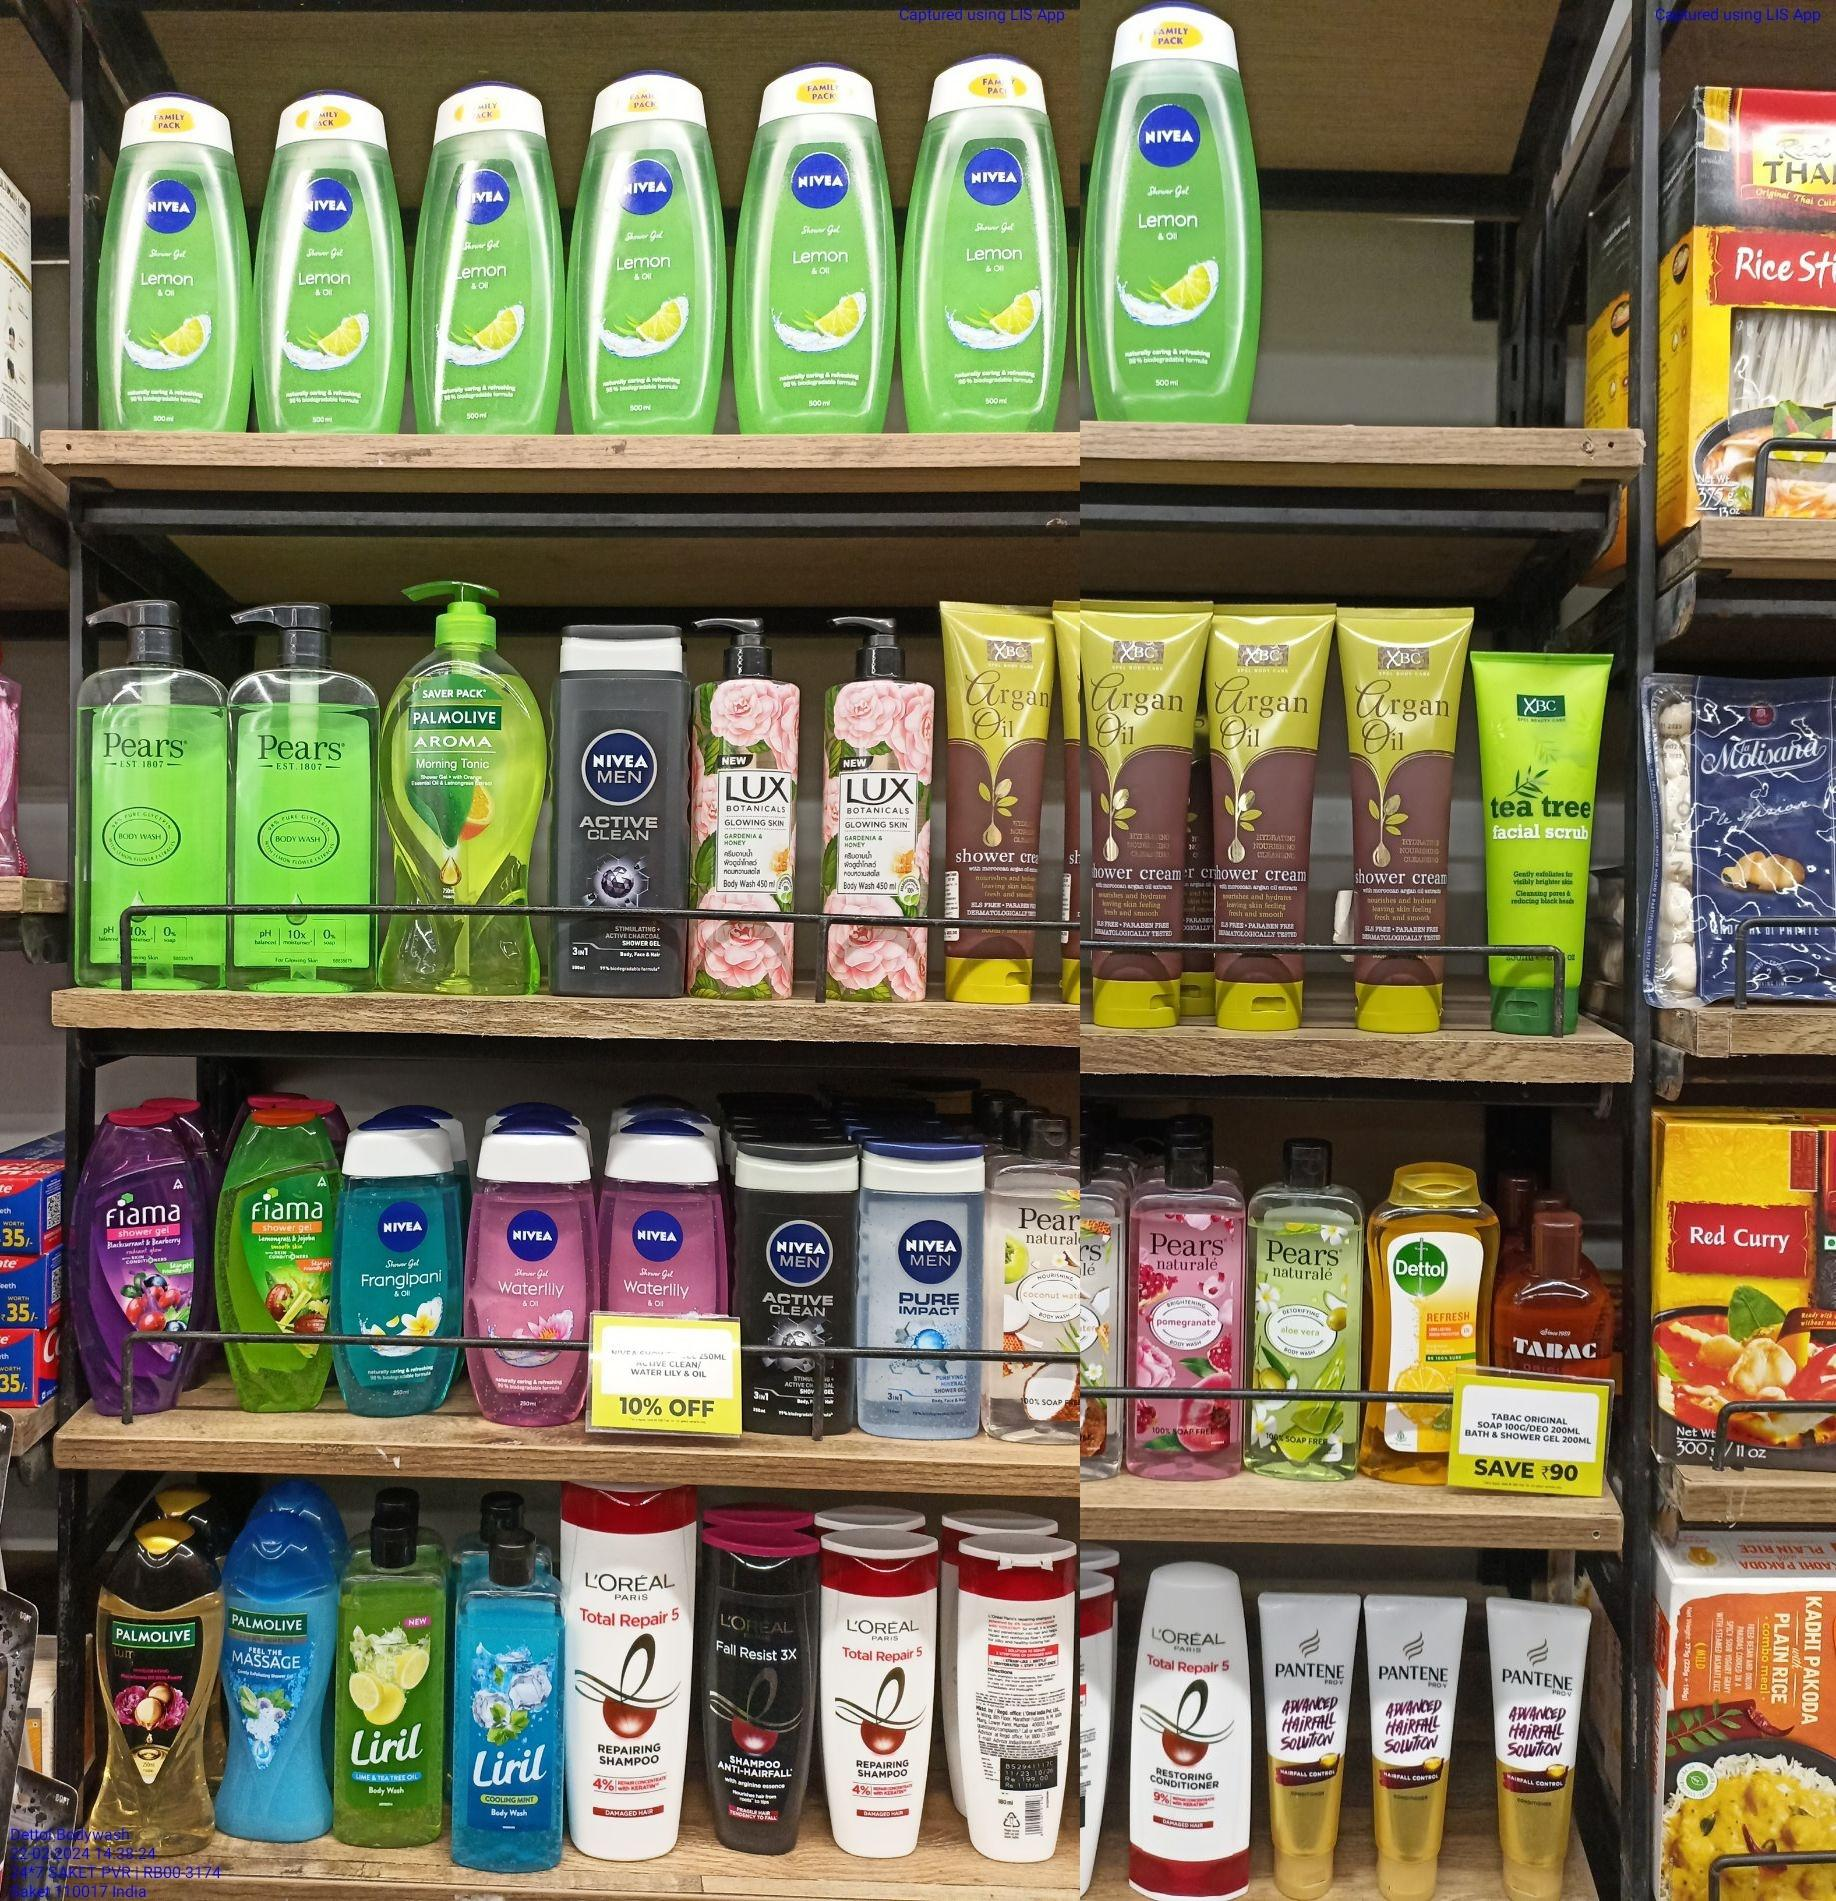Dettol_Bodywash_Refresh: (1371, 1163, 1493, 1483)
Fiama_Shower_Gel_Lemongrass_and_Jojoba_250ML: (214, 1108, 336, 1409)
Liril_Cooling_Mint_Body_Wash_250ML: (453, 1519, 565, 1869)
Liril_Lime_and_Tea_Tree_Oil_Body_Wash_250ML: (344, 1509, 451, 1850)
Nivea_Shower_Gel_Frangipani_and_Oil_250ML: (343, 1112, 465, 1419)
Nivea_Shower_Gel_Lemon_and_Oil_250ML: (1079, 2, 1262, 419), (899, 44, 1072, 426), (733, 56, 896, 429), (570, 66, 726, 436), (92, 93, 251, 433), (414, 83, 565, 424), (255, 90, 406, 429)
Nivea_Shower_Gel_Waterlily_and_Oil_250ML: (472, 1127, 596, 1426), (599, 1113, 730, 1319)
Palmolive_Aroma_Moments_Feel_The_Massage_Shower_Gel_250ML: (222, 1512, 336, 1845)
Palmolive_Luminous_Oils_Invigorating_Macadamia_Oil_With_Peony_250ML: (83, 1514, 212, 1867)
Pears_Naturale_Aloe_Vera_Body_Wash_250ML: (1251, 1142, 1361, 1482)
